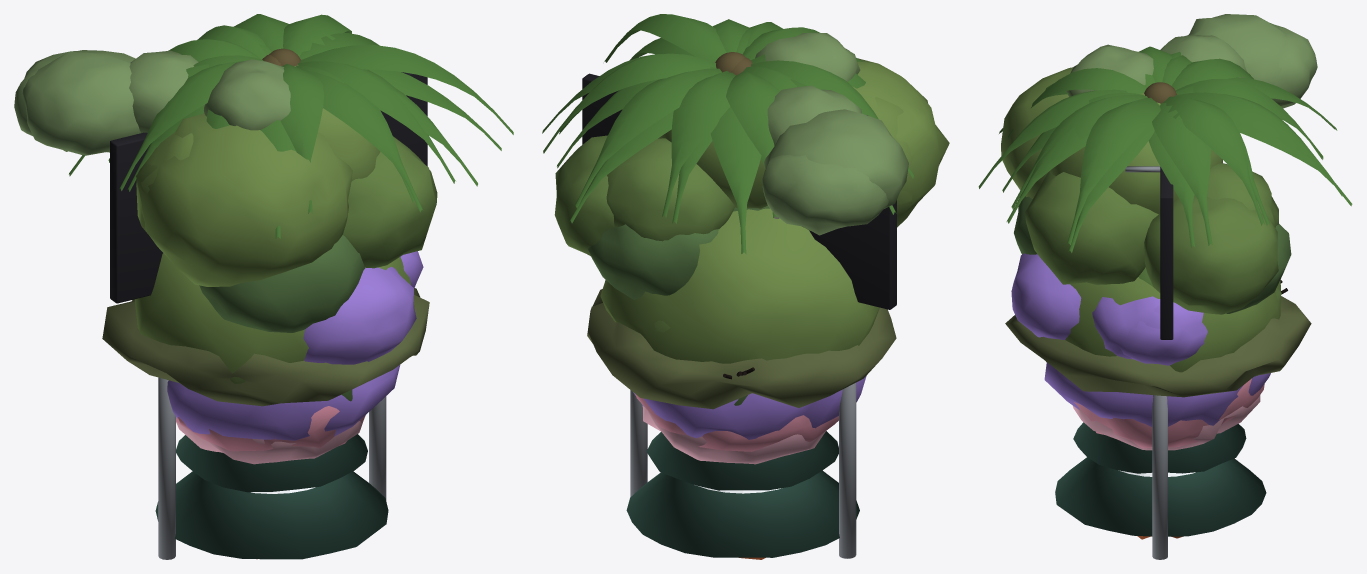
Rendered from kit_nature.glb.
3 renders of one model, left to right at view 1: azimuth 30°, elevation 25°; view 2: azimuth 150°, elevation 25°; view 3: azimuth 270°, elevation 25°, orthographic. The views are drawn at different scales.
Parts seen in each view (by area): view 1: platane_b, pin_a, eucalyptus_a, jacaranda_a, palmier_b, acacia_a, palmier_a, panneau_pub, arbre_b, platane_a, cerisier_a, cerisier_b; view 2: platane_b, pin_a, eucalyptus_a, palmier_b, acacia_a, palmier_a, platane_a, panneau_pub, arbre_b, jacaranda_a, cerisier_a, cerisier_b; view 3: platane_a, pin_a, palmier_b, palmier_a, jacaranda_a, platane_b, acacia_a, eucalyptus_a, panneau_pub, cerisier_b, arbre_b, cerisier_a.
Part boxes in pixels (x1,y1,x2,y2): platane_b: [135, 59, 414, 383]; pin_a: [155, 434, 388, 559]; eucalyptus_a: [14, 50, 290, 155]; jacaranda_a: [167, 251, 423, 440]; palmier_b: [108, 14, 501, 213]; acacia_a: [102, 288, 429, 406]; palmier_a: [69, 25, 513, 238]; panneau_pub: [110, 72, 427, 559]; arbre_b: [199, 235, 365, 401]; platane_a: [343, 136, 437, 268]; cerisier_a: [176, 420, 363, 464]; cerisier_b: [176, 406, 365, 451]; platane_b: [600, 58, 949, 363]; pin_a: [626, 431, 859, 557]; eucalyptus_a: [755, 32, 908, 235]; palmier_b: [543, 19, 913, 254]; acacia_a: [587, 289, 896, 409]; palmier_a: [542, 14, 896, 223]; platane_a: [554, 135, 734, 332]; panneau_pub: [582, 73, 896, 558]; arbre_b: [588, 205, 769, 405]; jacaranda_a: [633, 376, 866, 439]; cerisier_a: [642, 405, 825, 464]; cerisier_b: [635, 394, 838, 451]; platane_a: [1025, 163, 1281, 314]; pin_a: [1055, 422, 1266, 536]; palmier_b: [1002, 46, 1342, 252]; palmier_a: [978, 51, 1352, 245]; jacaranda_a: [1011, 253, 1270, 426]; platane_b: [1001, 67, 1280, 372]; acacia_a: [1005, 296, 1311, 397]; eucalyptus_a: [1066, 14, 1317, 108]; panneau_pub: [1125, 166, 1173, 559]; cerisier_b: [1074, 378, 1264, 448]; arbre_b: [1014, 196, 1291, 376]; cerisier_a: [1072, 395, 1260, 450].
Bounding box in the file's own units: 9.34 × 11.56 × 8.54.
